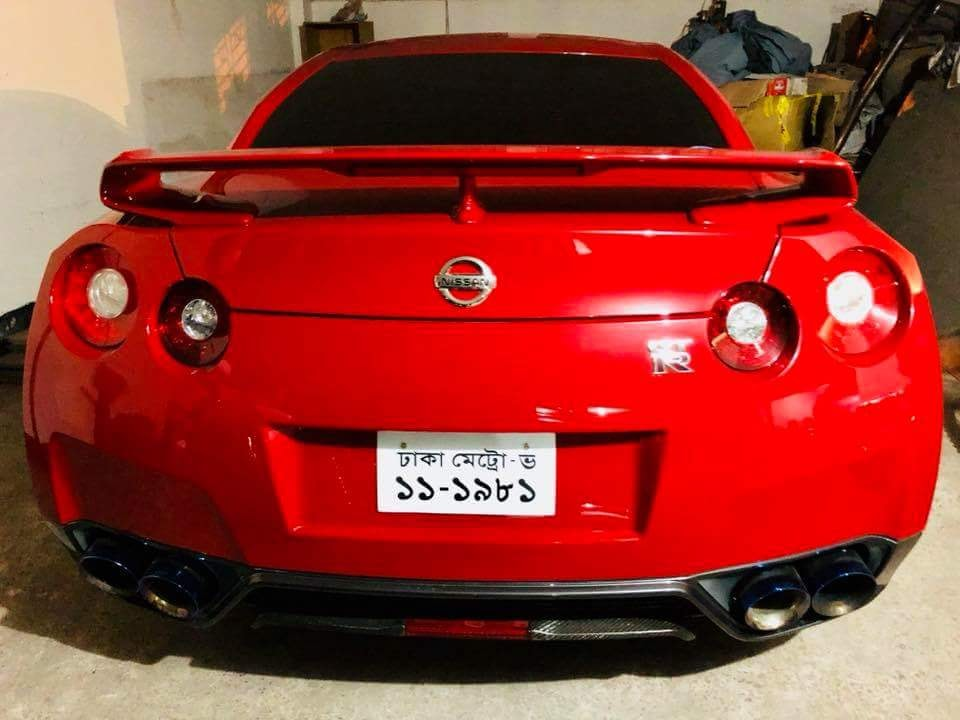registration_plate: (374, 430, 556, 517)
